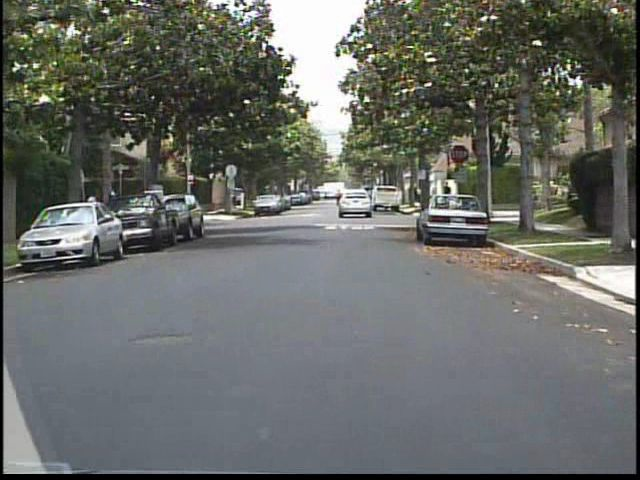person: (87, 188, 107, 241), (438, 178, 455, 213)
